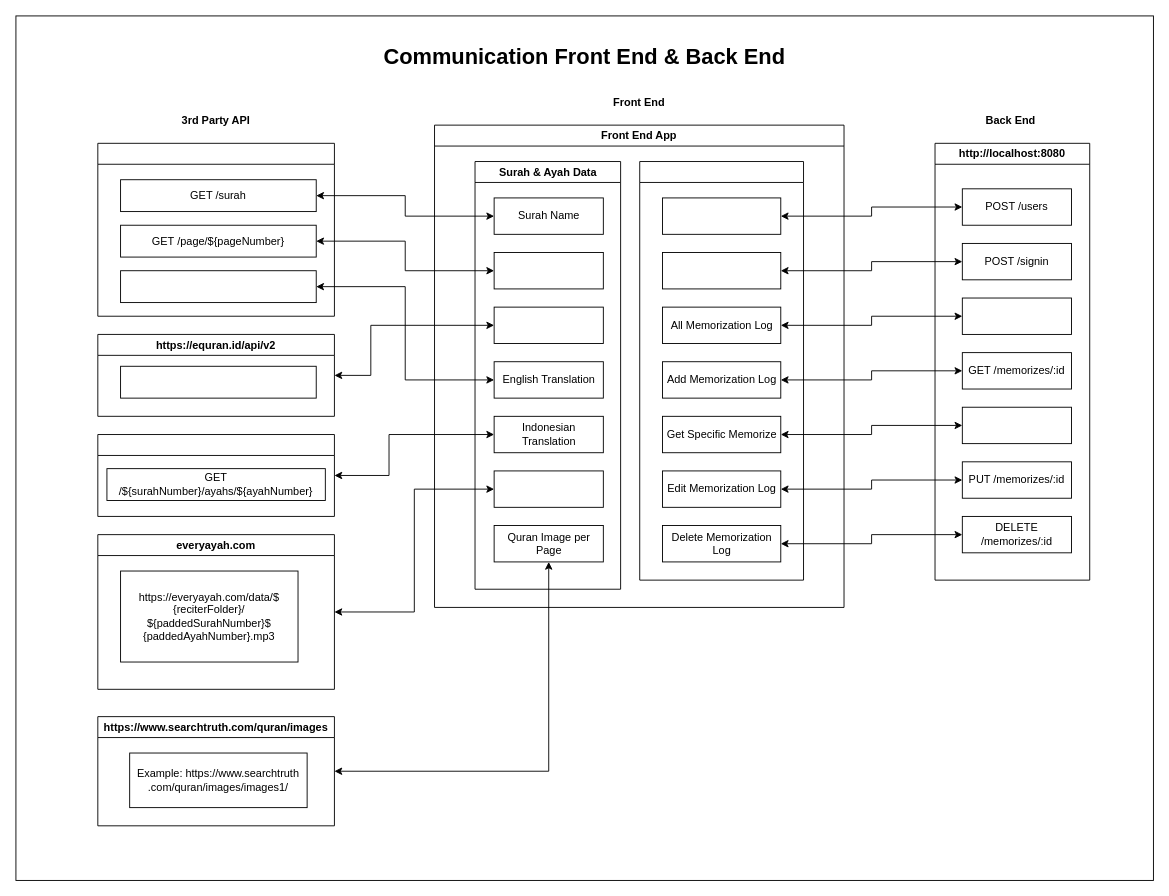
Image size: 1169x896. Some labels were removed from this diagram. Here are the shapes that lost their labels. From the top down, the box of each, then its label:
(97, 142, 334, 316): https://api.alquran.cloud/v1
(662, 197, 781, 234): Signup
(120, 270, 316, 303): GET /surah/${surahNumber}/en.asad
(493, 252, 603, 289): Surah/Page/Surah
(662, 252, 781, 289): Login
(493, 306, 603, 344): Ayah & Transliteration
(961, 297, 1072, 334): GET /memorizes
(120, 365, 316, 398): GET /surat/${surahNumber}
(639, 161, 804, 580): User Related Data
(961, 406, 1072, 444): POST /memorizes
(97, 434, 334, 516): https://quran-api-id.vercel.app/surahs
(493, 470, 603, 507): Quran Audio
